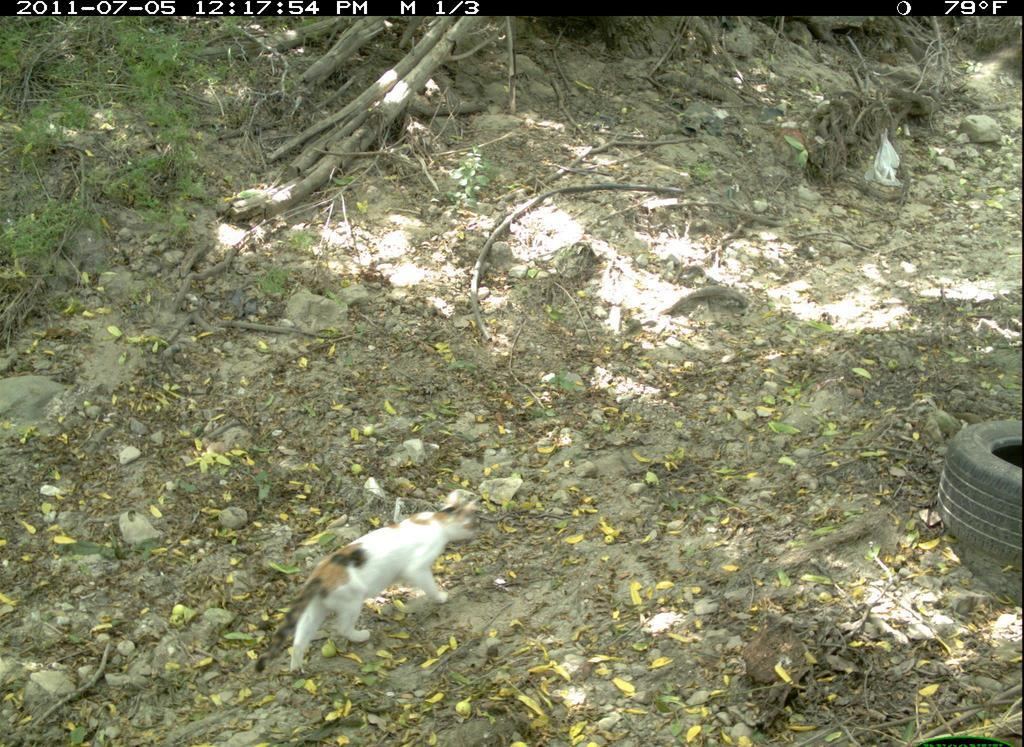cat: (249, 493, 489, 683)
